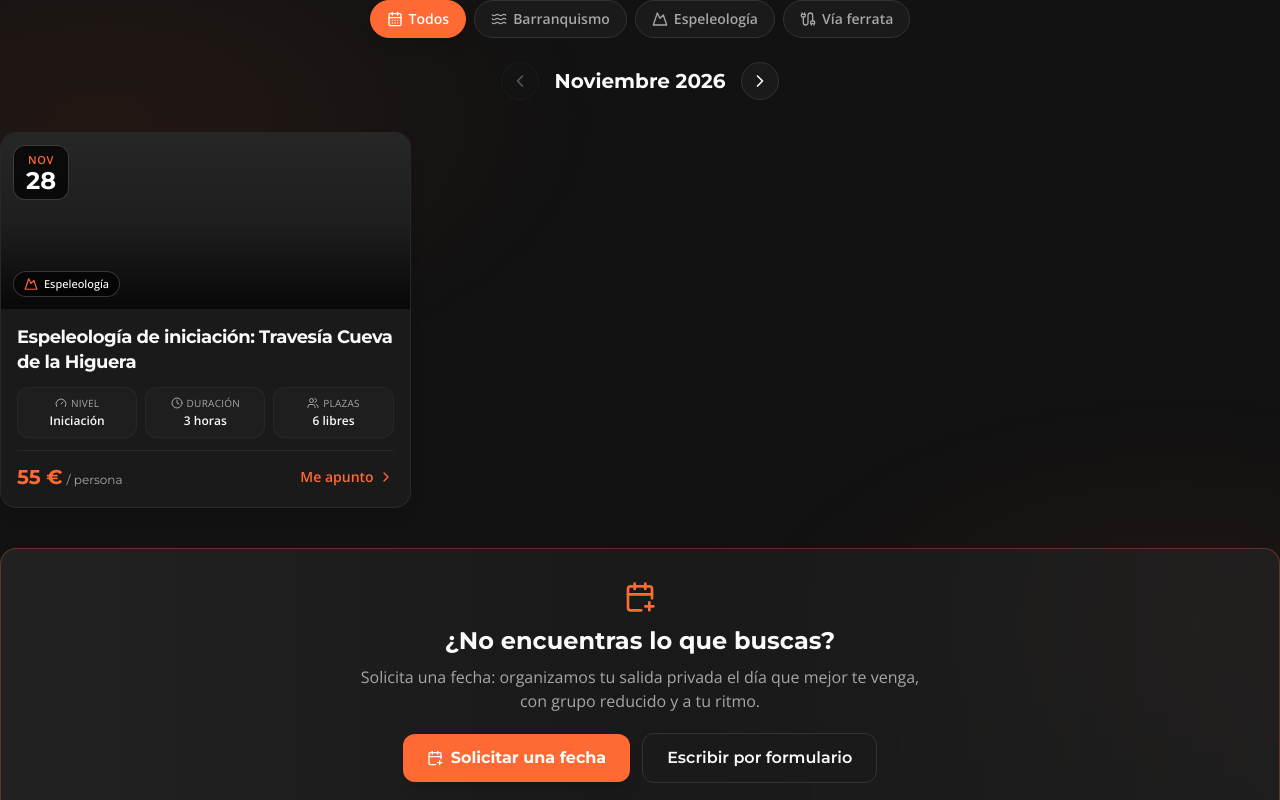
Scenario: muestra las dudas plegadas y amplía cada pregunta al pulsarla
The image size is (1280, 800).
Click the button named "Me apunto a Espeleología de iniciación: Travesía Cueva de la Higuera" at (205, 320), box [1, 133, 410, 506]
(page scrolled)
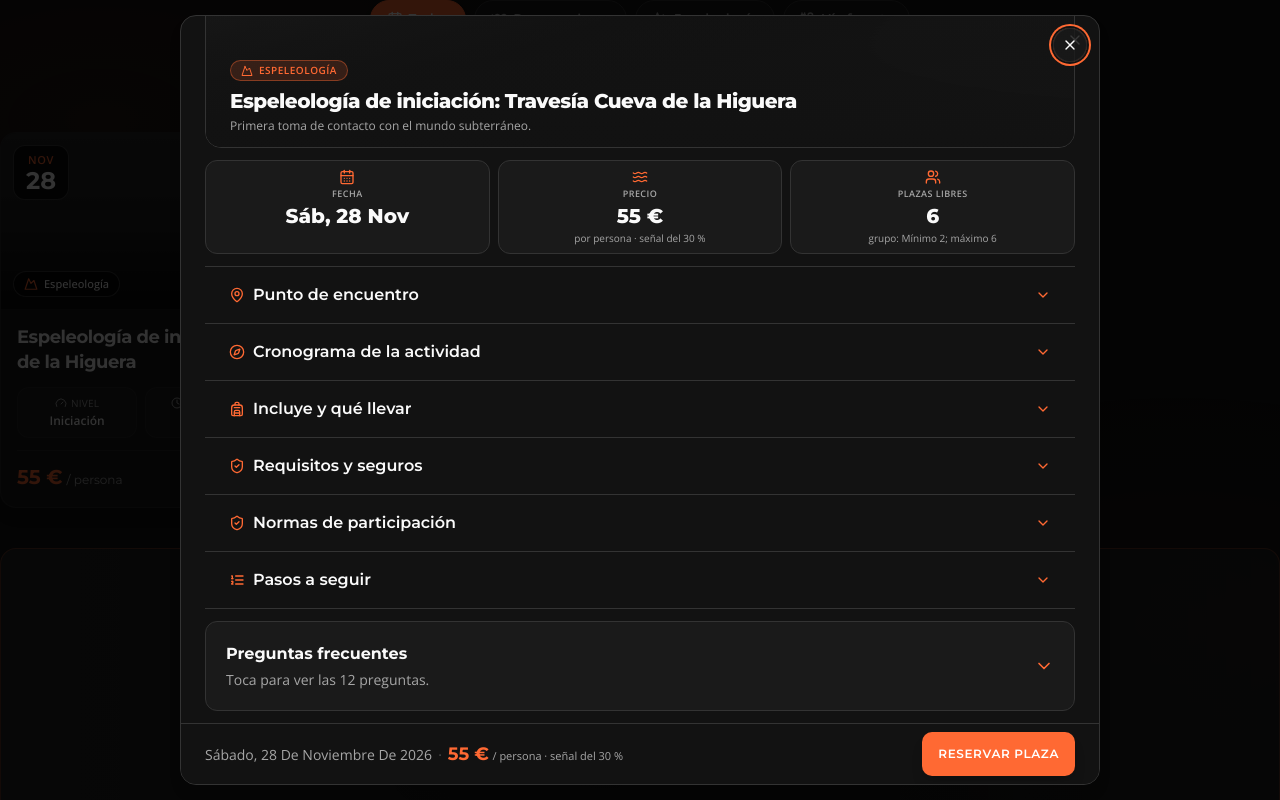
Click the button "Preguntas frecuentes Toca para ver las 12 preguntas." at (317, 653), box [206, 622, 1074, 710]
(page scrolled)
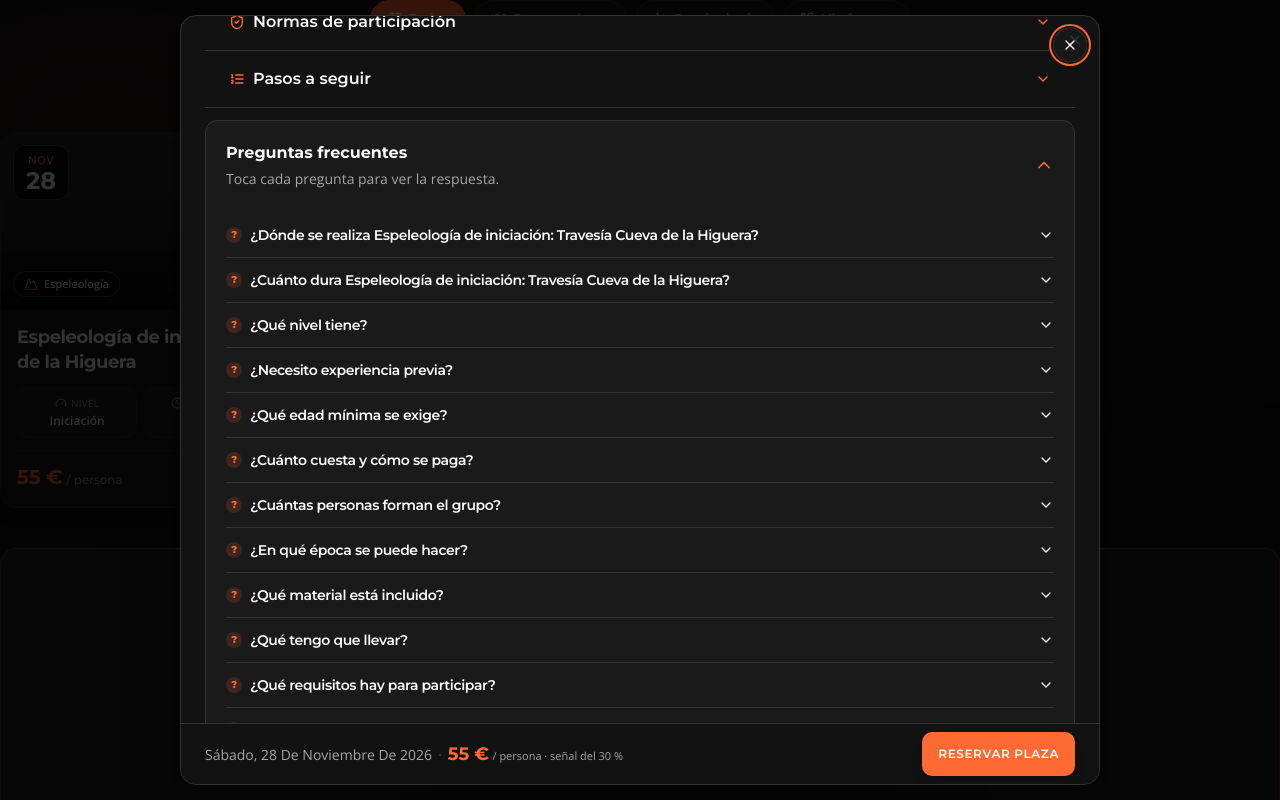
Expected: the text "Antes de cerrar la plaza revisamos la experiencia" is not shown
Click the button "? ¿Necesito experiencia previa?" at (351, 370), box [226, 348, 1054, 392]
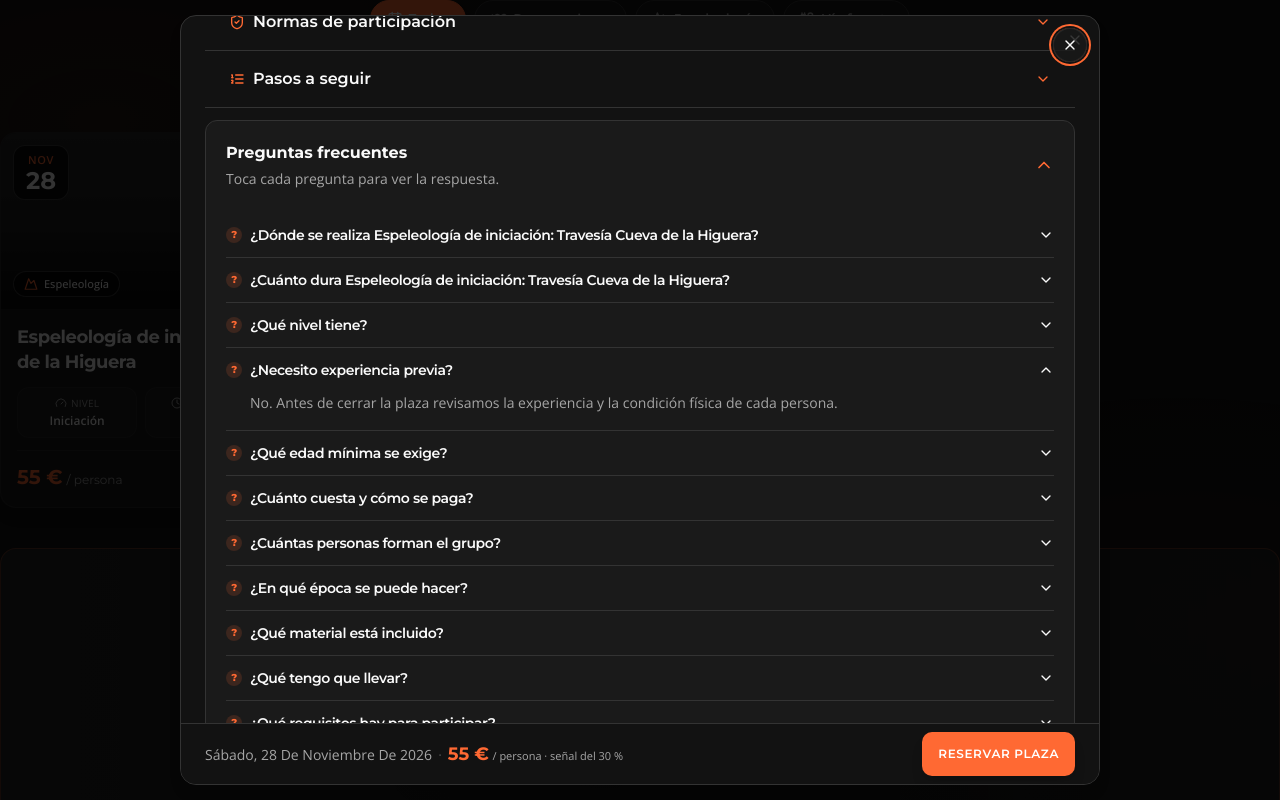
Expected: the button "? ¿Necesito experiencia previa?" is expanded, [226, 348, 1054, 392]
Expected: the text "Antes de cerrar la plaza revisamos la experiencia" is shown, [250, 392, 838, 412]
